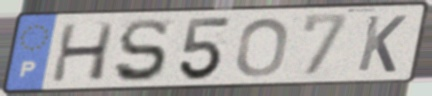5: (176, 15, 234, 83)
7: (298, 11, 353, 80)
H: (49, 20, 118, 84)
K: (354, 13, 410, 75)
O: (233, 16, 292, 79)
S: (111, 17, 170, 85)
